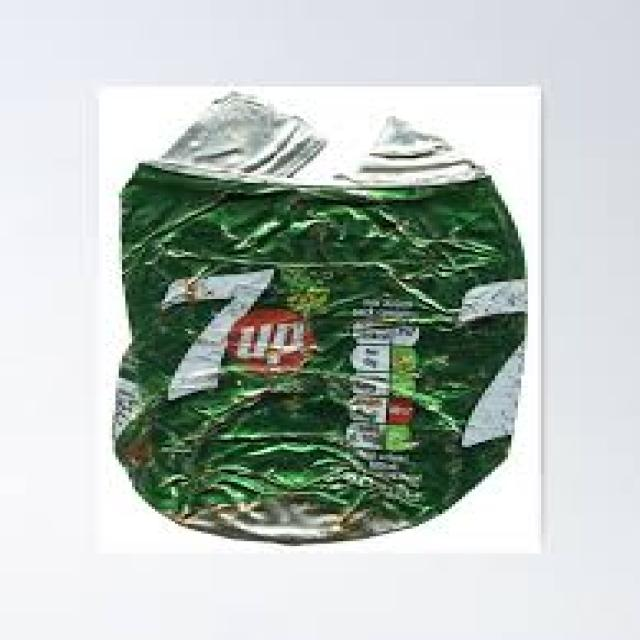metal: (103, 89, 522, 544)
